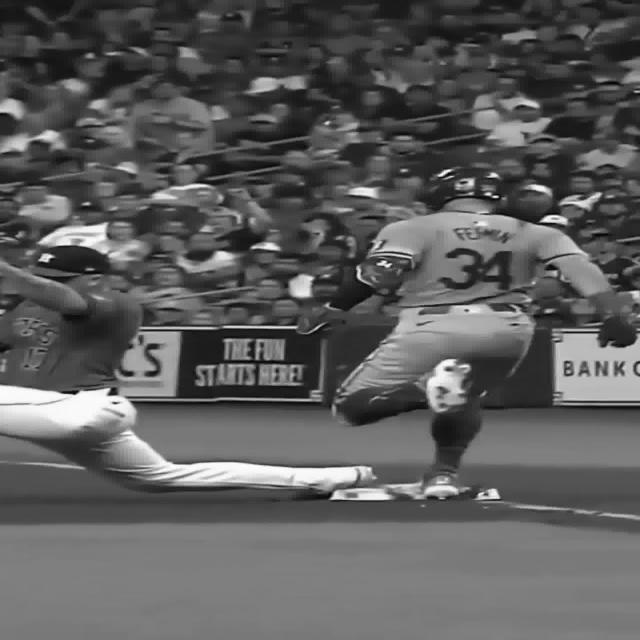base: (325, 484, 508, 502)
shoe: (424, 358, 472, 413), (308, 465, 376, 494), (420, 466, 460, 499)
